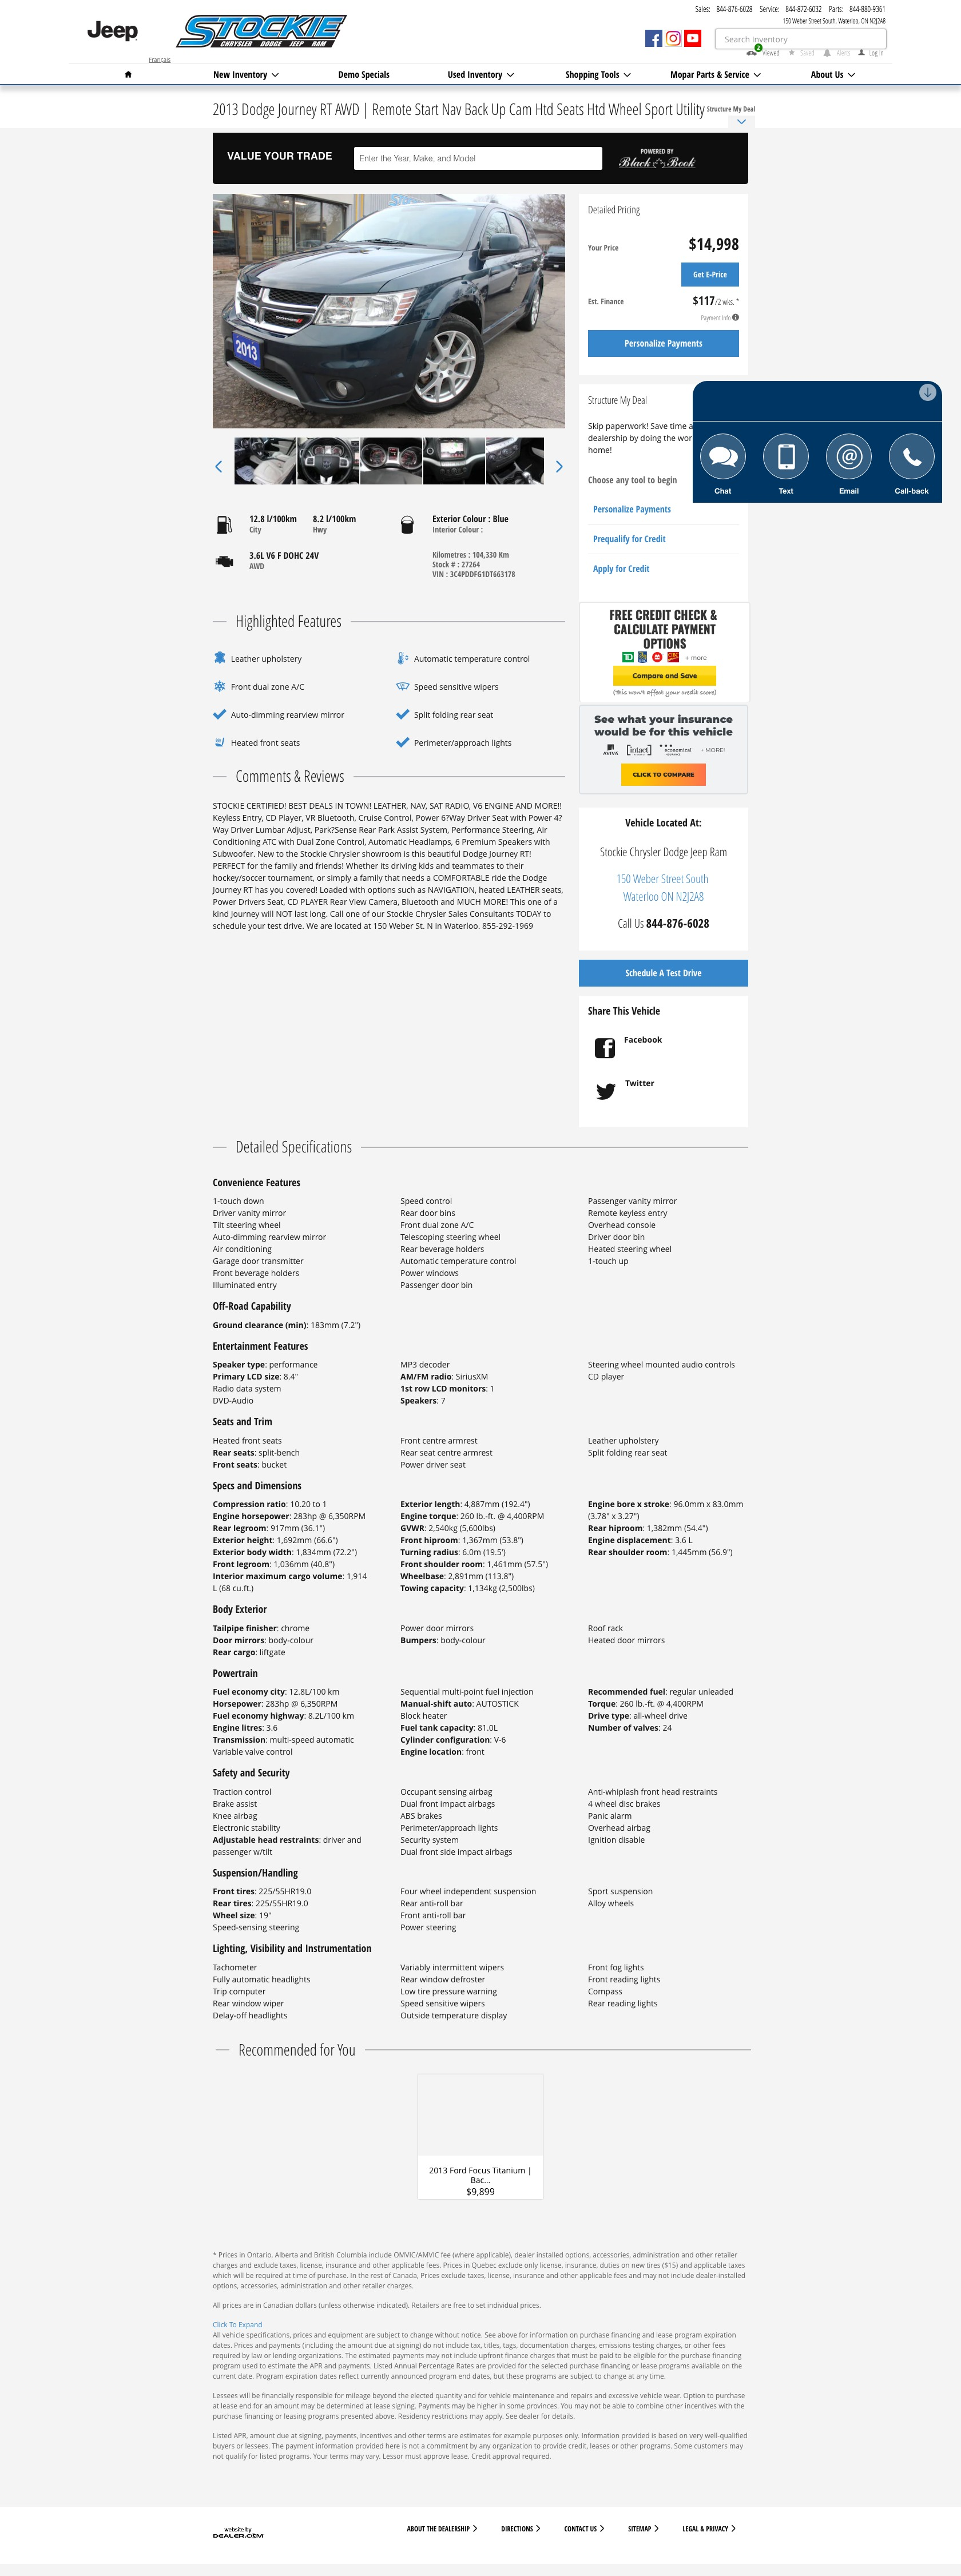car: (555, 462, 563, 473)
